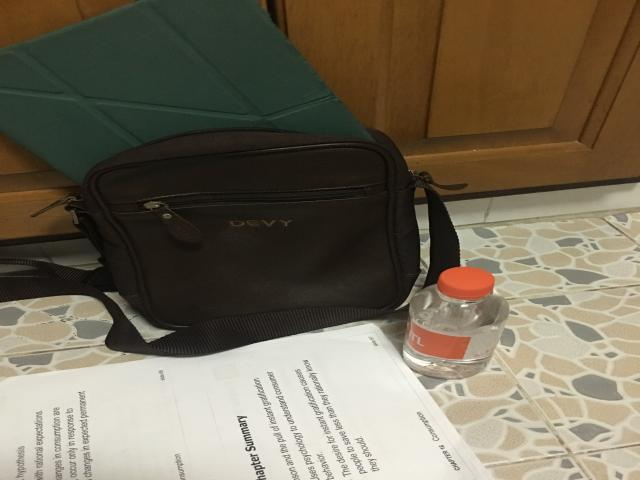bottle: (403, 266, 508, 379)
paper: (0, 325, 493, 480)
